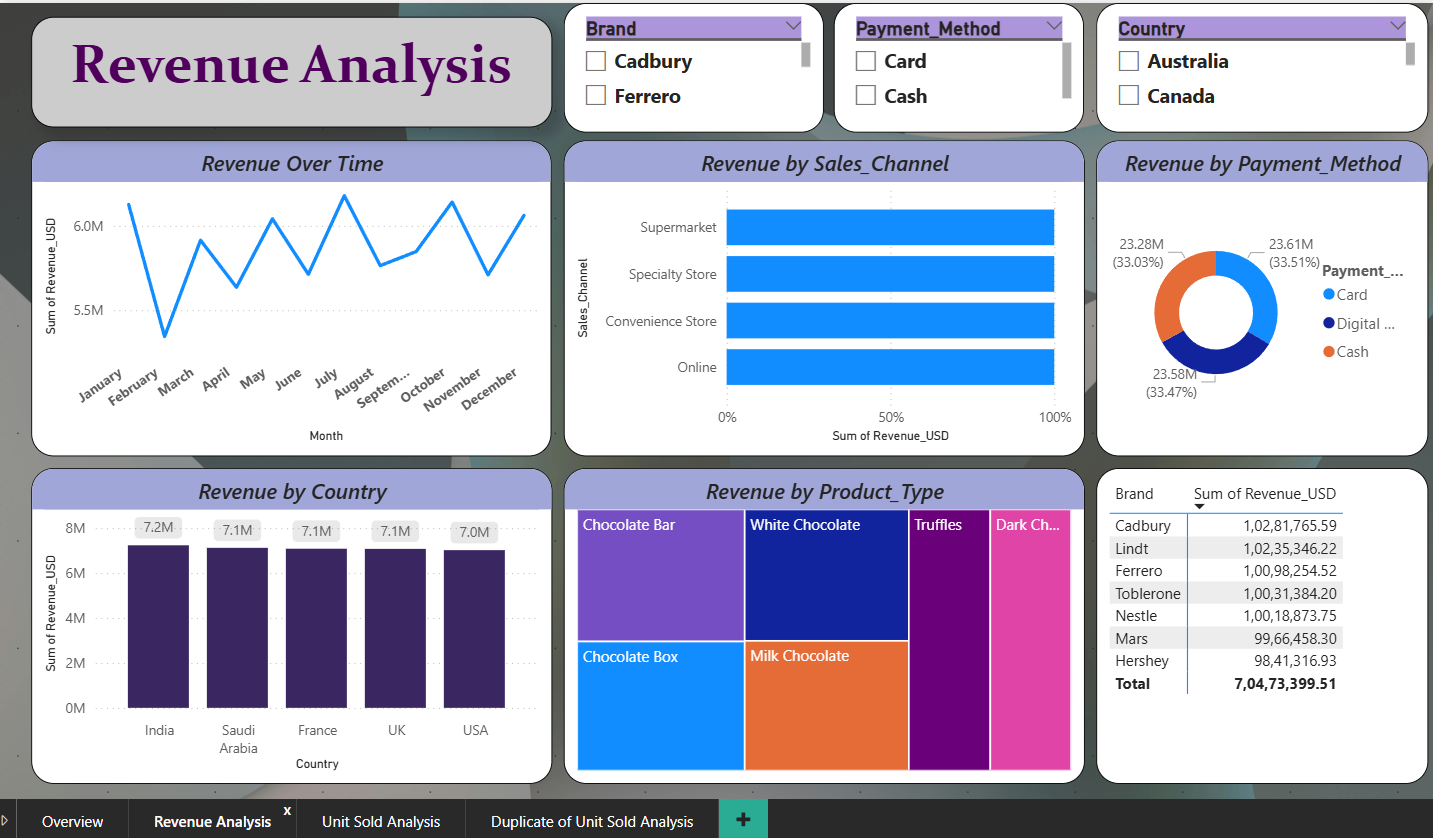

This screenshot's page, from the dashboard's own definition file:
{"tool":"powerbi","page":{"name":"Revenue Analysis","canvas":[1280,720],"ordinal":1},"visuals":[{"type":"lineChart","title":"Revenue Over Time","fields":{"Y":["Sum(chocolate_sales_50000.Revenue_USD)"],"Category":["chocolate_sales_50000.Date.Variation.Date Hierarchy.Month"]},"box":[28.3,121.8,462.8,280.6],"z":0},{"type":"clusteredColumnChart","title":"Revenue by Country","fields":{"Y":["Sum(chocolate_sales_50000.Revenue_USD)"],"Category":["chocolate_sales_50000.Country"]},"box":[28,413,463,281],"z":1000},{"type":"hundredPercentStackedBarChart","title":"Revenue by Sales_Channel","fields":{"Category":["chocolate_sales_50000.Sales_Channel"],"Y":["Sum(chocolate_sales_50000.Revenue_USD)"]},"box":[501,122,463,281],"z":2000},{"type":"treemap","title":"Revenue by Product_Type","fields":{"Values":["Sum(chocolate_sales_50000.Revenue_USD)"],"Group":["chocolate_sales_50000.Product_Type"]},"box":[501,413,463,281],"z":3000},{"type":"donutChart","title":"Revenue by Payment_Method","fields":{"Y":["Sum(chocolate_sales_50000.Revenue_USD)"],"Category":["chocolate_sales_50000.Payment_Method"]},"box":[973.9,122.4,295,281],"z":4000},{"type":"pivotTable","fields":{"Rows":["chocolate_sales_50000.Brand"],"Values":["Sum(chocolate_sales_50000.Revenue_USD)"]},"box":[973.9,413.2,295,281],"z":5000},{"type":"textbox","box":[27.8,12.5,463.3,98.8],"z":6000},{"type":"slicer","fields":{"Values":["chocolate_sales_50000.Brand"]},"box":[500.9,0,231,115.5],"z":7000},{"type":"slicer","fields":{"Values":["chocolate_sales_50000.Country"]},"box":[973.9,0,295,115.5],"z":8000},{"type":"slicer","fields":{"Values":["chocolate_sales_50000.Payment_Method"]},"box":[741.6,0,222.6,115.5],"z":9000}]}

Visuals, with their boxes on the page's 1280x720 design canvas (x1, y1, x2, y2). These are canvas units, not pixel positions in the 1433x838 screenshot, which may show the page scaled, cropped or inside an application window:
"Revenue Over Time" lineChart: x1=28 y1=122 x2=491 y2=402
"Revenue by Country" clusteredColumnChart: x1=28 y1=413 x2=491 y2=694
"Revenue by Sales_Channel" hundredPercentStackedBarChart: x1=501 y1=122 x2=964 y2=403
"Revenue by Product_Type" treemap: x1=501 y1=413 x2=964 y2=694
"Revenue by Payment_Method" donutChart: x1=974 y1=122 x2=1269 y2=403
pivotTable - chocolate_sales_50000.Brand x Sum(chocolate_sales_50000.Revenue_USD): x1=974 y1=413 x2=1269 y2=694
textbox: x1=28 y1=12 x2=491 y2=111
slicer - chocolate_sales_50000.Brand: x1=501 y1=0 x2=732 y2=116
slicer - chocolate_sales_50000.Country: x1=974 y1=0 x2=1269 y2=116
slicer - chocolate_sales_50000.Payment_Method: x1=742 y1=0 x2=964 y2=116
